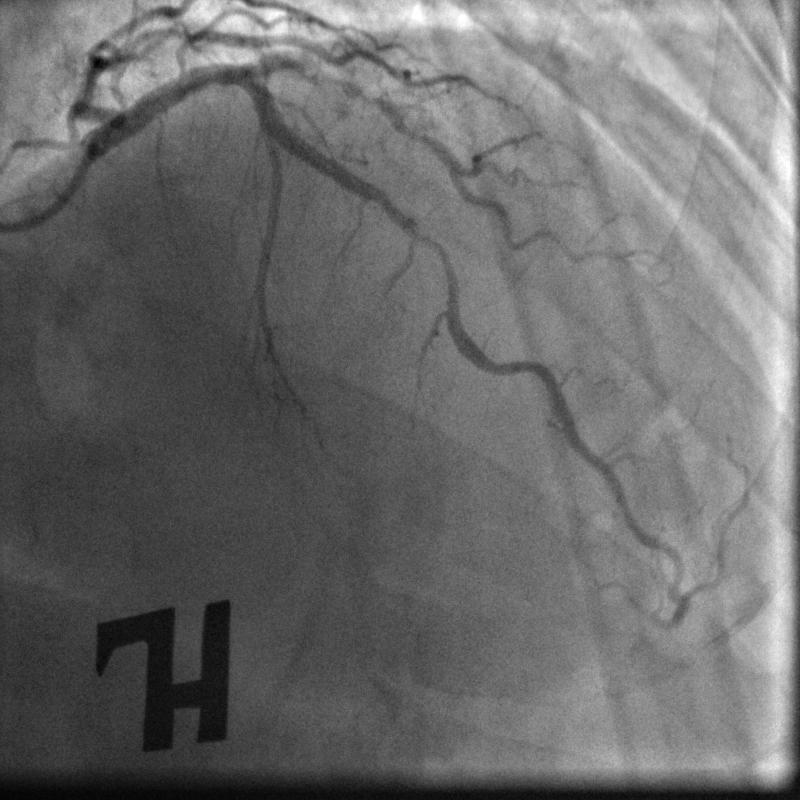Stenosis: (420, 229, 463, 303)
